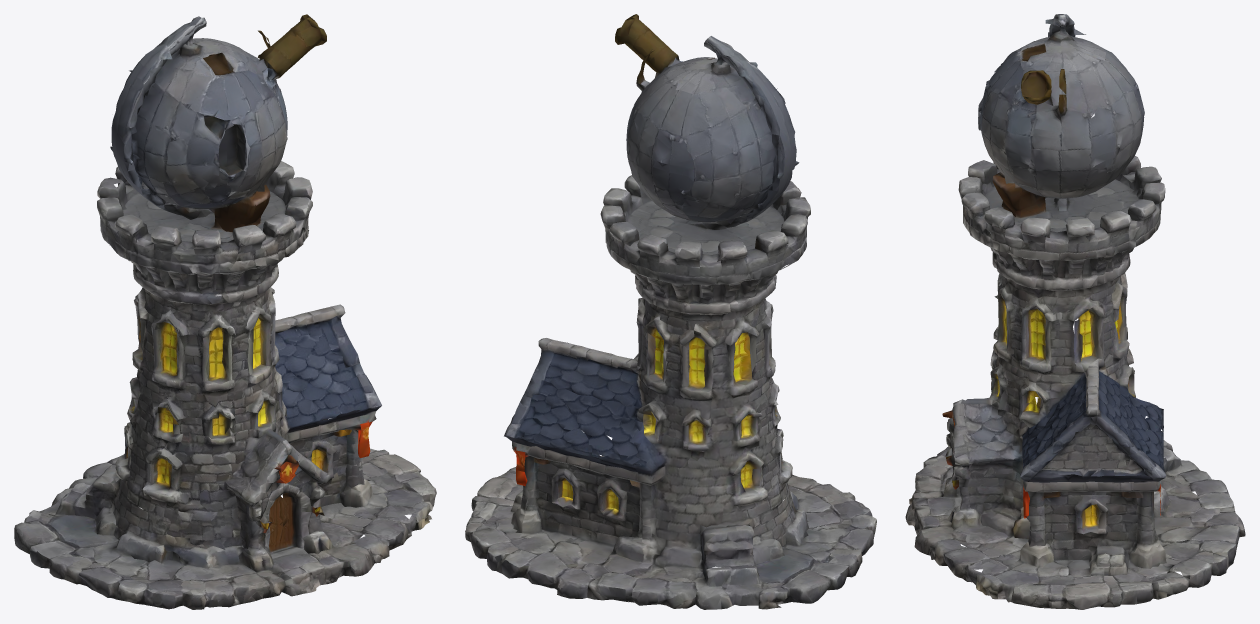
The model's file is observatory.glb.
The picture shows the model from 3 angles, left to right: view 1: azimuth 30°, elevation 25°; view 2: azimuth 150°, elevation 25°; view 3: azimuth 270°, elevation 25°; orthographic projection. The views are drawn at different scales.
Visible parts, largest first — view 1: tripo_node_f665c180-2450-44a0-9012-ea658f9f909e; view 2: tripo_node_f665c180-2450-44a0-9012-ea658f9f909e; view 3: tripo_node_f665c180-2450-44a0-9012-ea658f9f909e.
Part boxes in pixels (box(x1,y1,x2,y2)): tripo_node_f665c180-2450-44a0-9012-ea658f9f909e: box(14, 14, 436, 609); tripo_node_f665c180-2450-44a0-9012-ea658f9f909e: box(465, 14, 876, 609); tripo_node_f665c180-2450-44a0-9012-ea658f9f909e: box(905, 14, 1245, 609).
Bounding box in the file's own units: 0.7329 × 0.9783 × 0.6099.
Materials: 1 (1 with a texture image).
